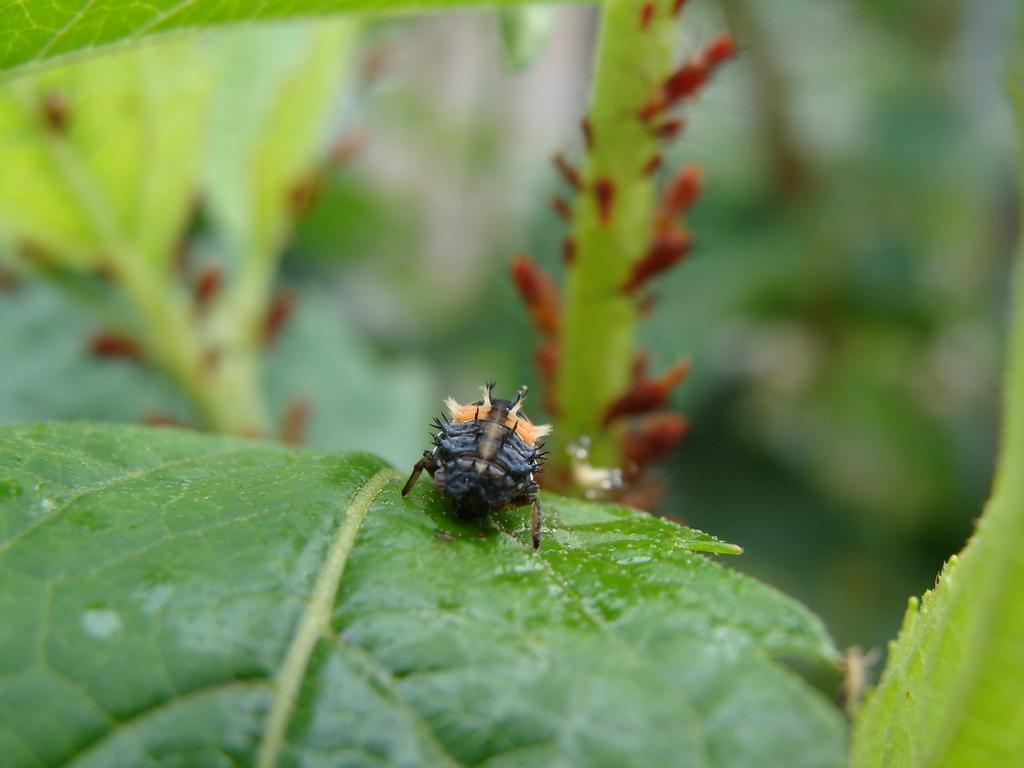ladybug: (401, 379, 559, 553)
